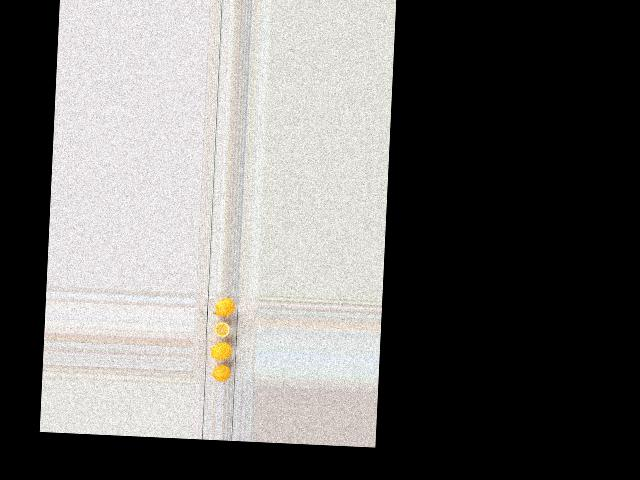lemon: (211, 297, 235, 316)
